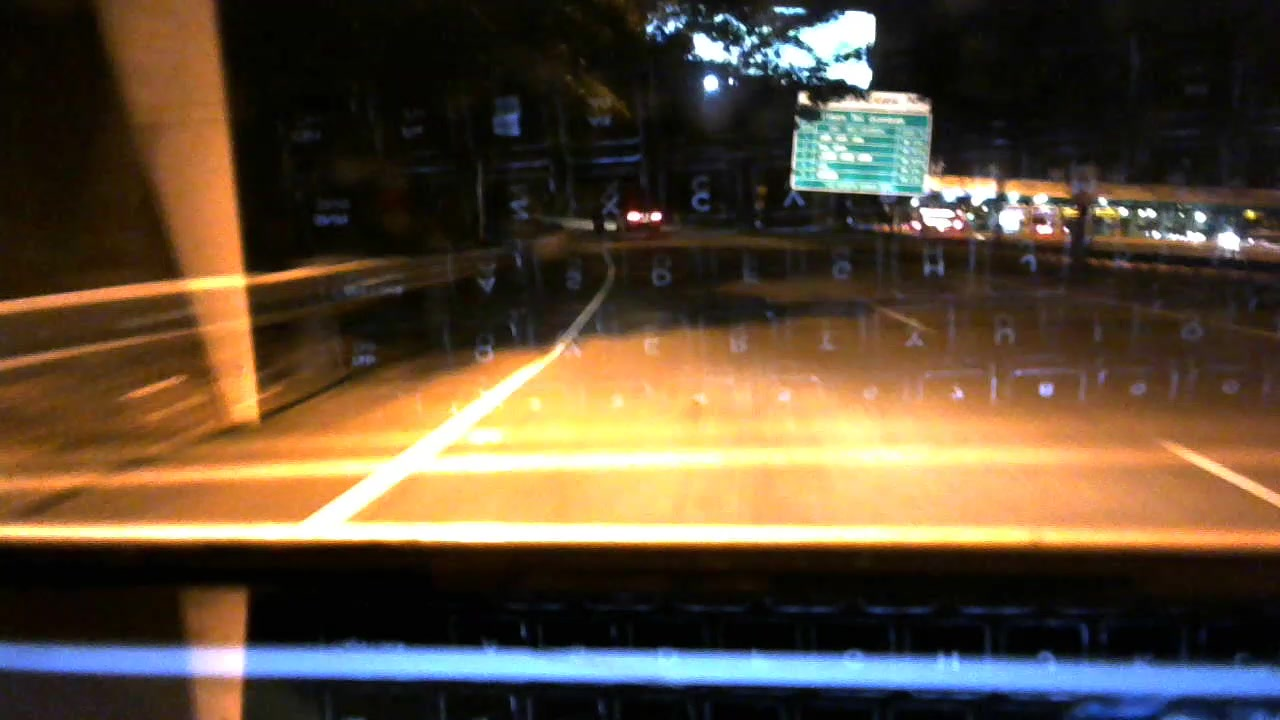Car: (625, 196, 669, 237)
